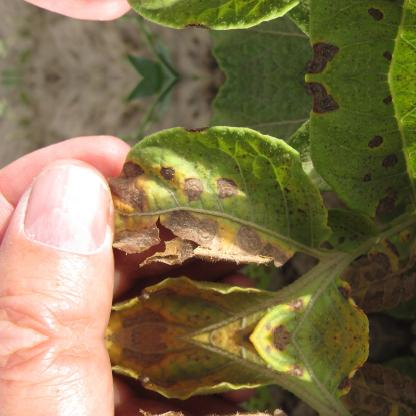Early-Blight: (99, 140, 300, 276), (108, 279, 310, 337), (108, 339, 310, 397), (339, 239, 415, 321), (339, 355, 415, 416), (356, 158, 413, 226), (300, 80, 342, 116), (300, 40, 342, 76), (357, 132, 391, 150), (357, 6, 391, 24), (373, 94, 403, 108), (373, 48, 403, 62)
